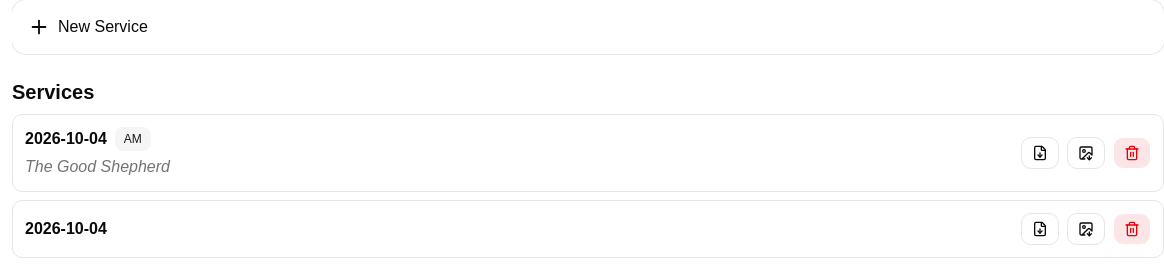
Scenario: ServiceListPage › deletes a service after confirmation
This screenshot has width=1164, height=275.
Click the button named "Delete service" in the row of "The Good Shepherd". click: (1132, 153)
box: [1113,137,1151,169]
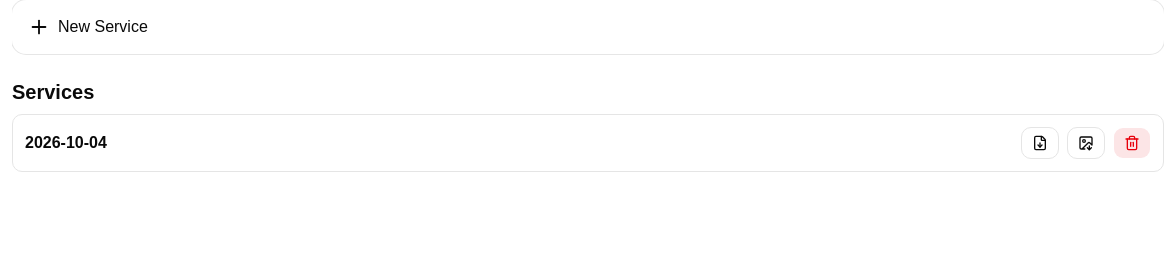
Expected: the text "The Good Shepherd" is gone
